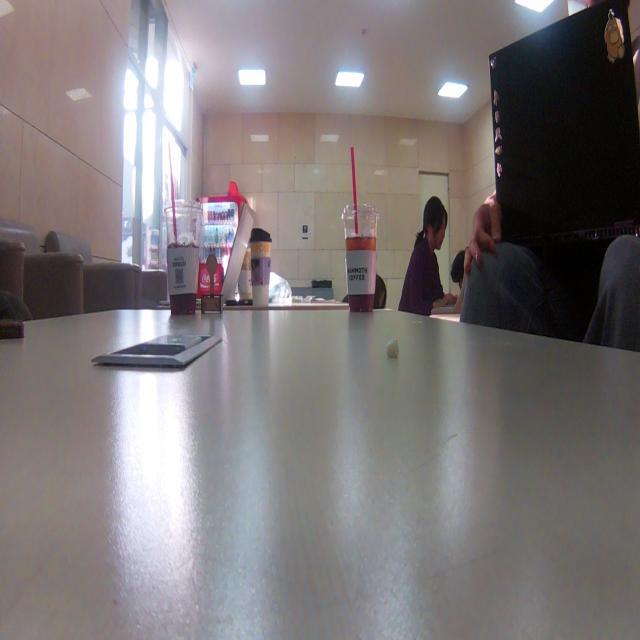target: (202, 253, 223, 314)
